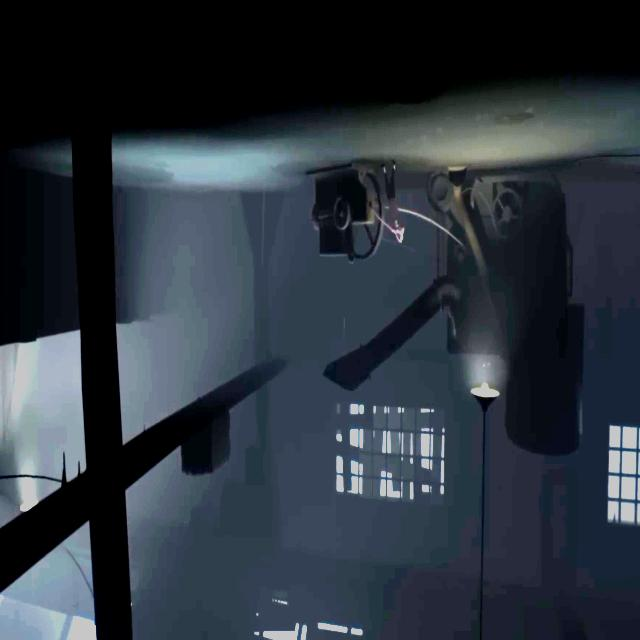boy: (380, 159, 404, 237)
